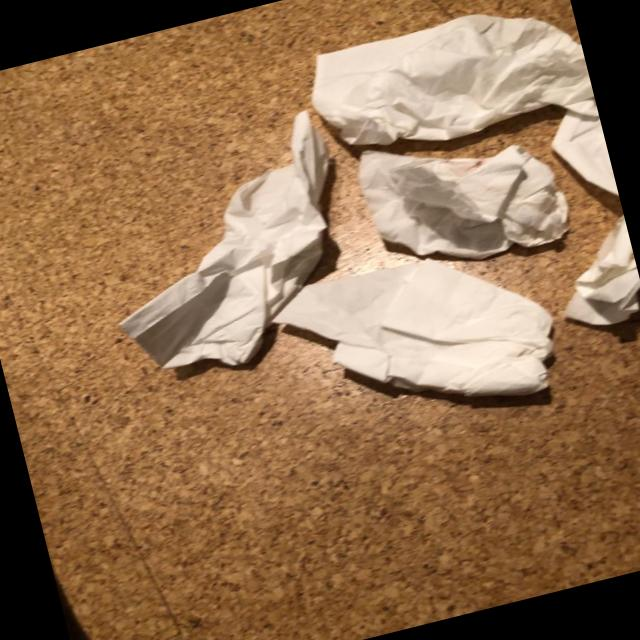organic waste: (70, 104, 373, 400), (264, 221, 576, 459), (298, 0, 598, 181), (542, 212, 640, 338), (545, 102, 621, 217)
